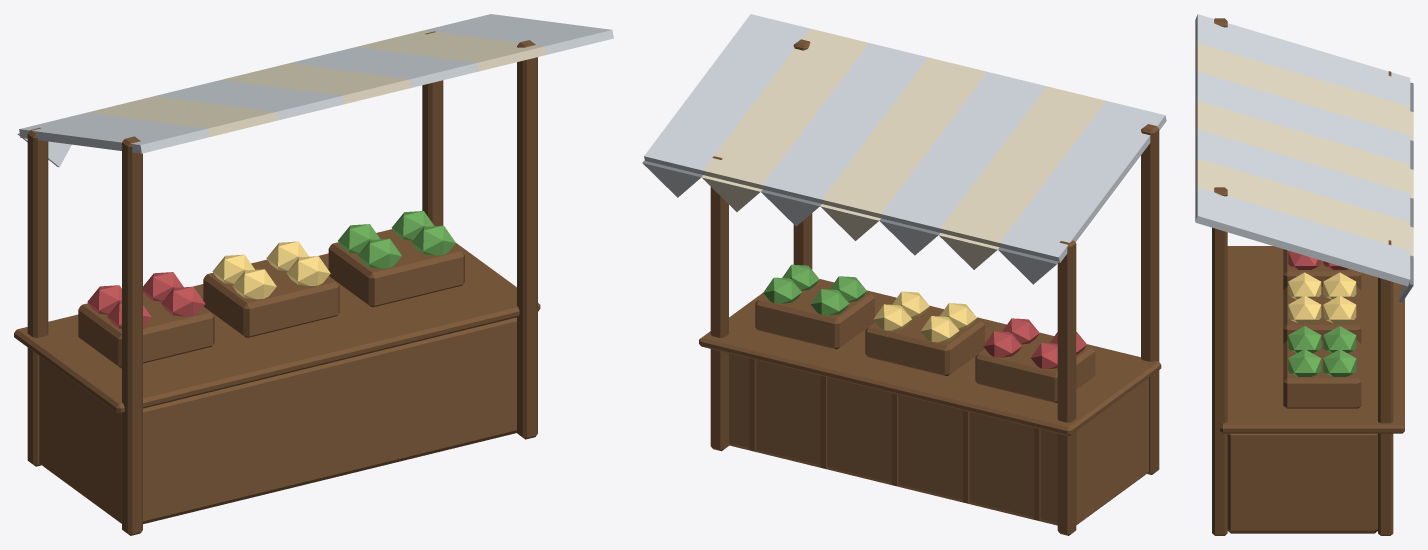
The model's file is MarketStall.obj.
The picture shows the model from 3 angles, left to right: view 1: azimuth 30°, elevation 25°; view 2: azimuth 150°, elevation 25°; view 3: azimuth 270°, elevation 25°; orthographic projection. The views are drawn at different scales.
Size of the model in its own units: 5 by 3.95 by 2.24.
